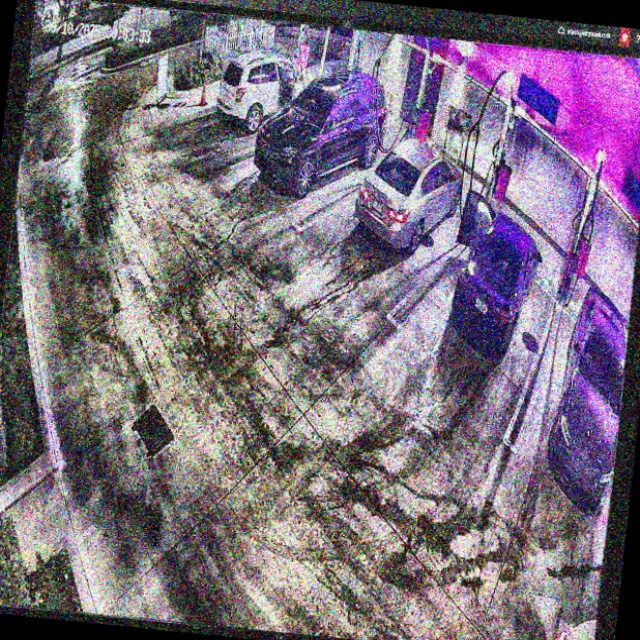Car: (251, 61, 392, 201), (445, 188, 547, 360), (351, 133, 467, 256)
